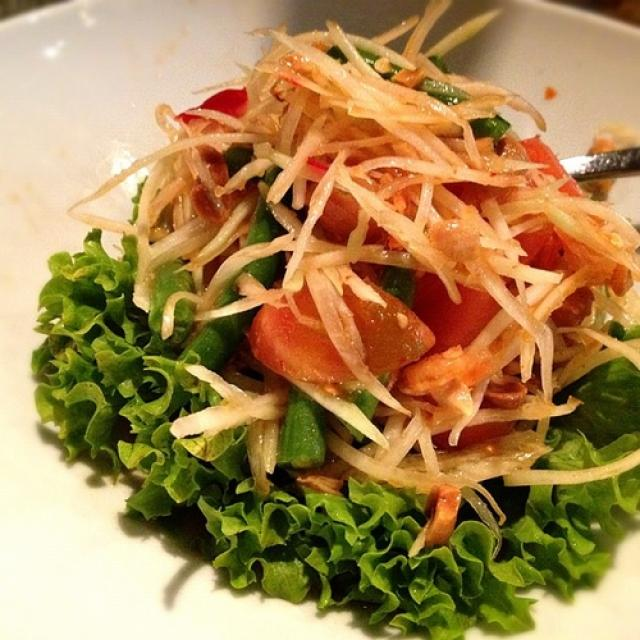蔬菜料理: (22, 21, 631, 624)
